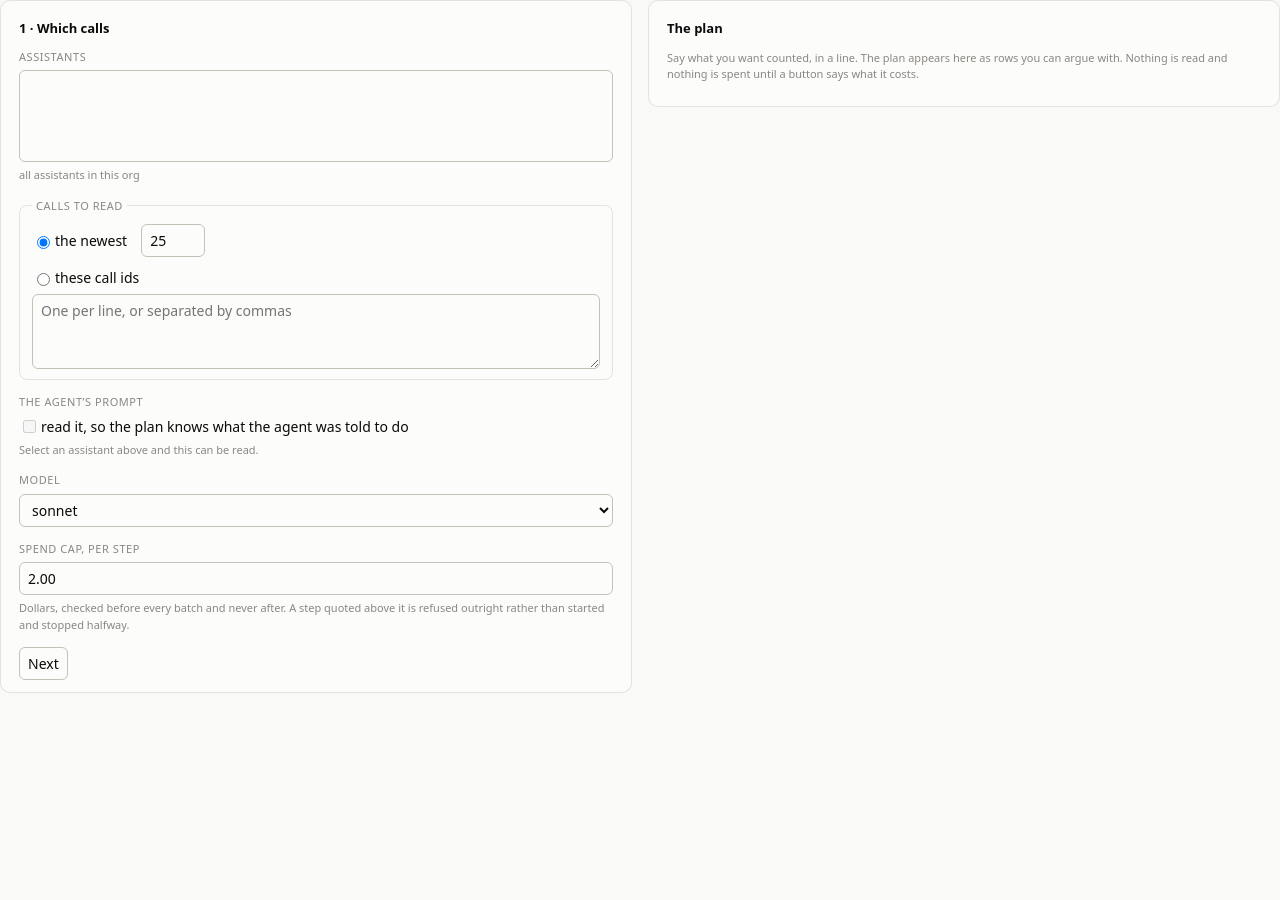
Scenario: the price line › names the model that was picked, before anything has been spent
The width and height of the screenshot is (1280, 900).
Select "opus" in the dropdown labelled "Model". click: (316, 510)
box: [19, 494, 613, 526]
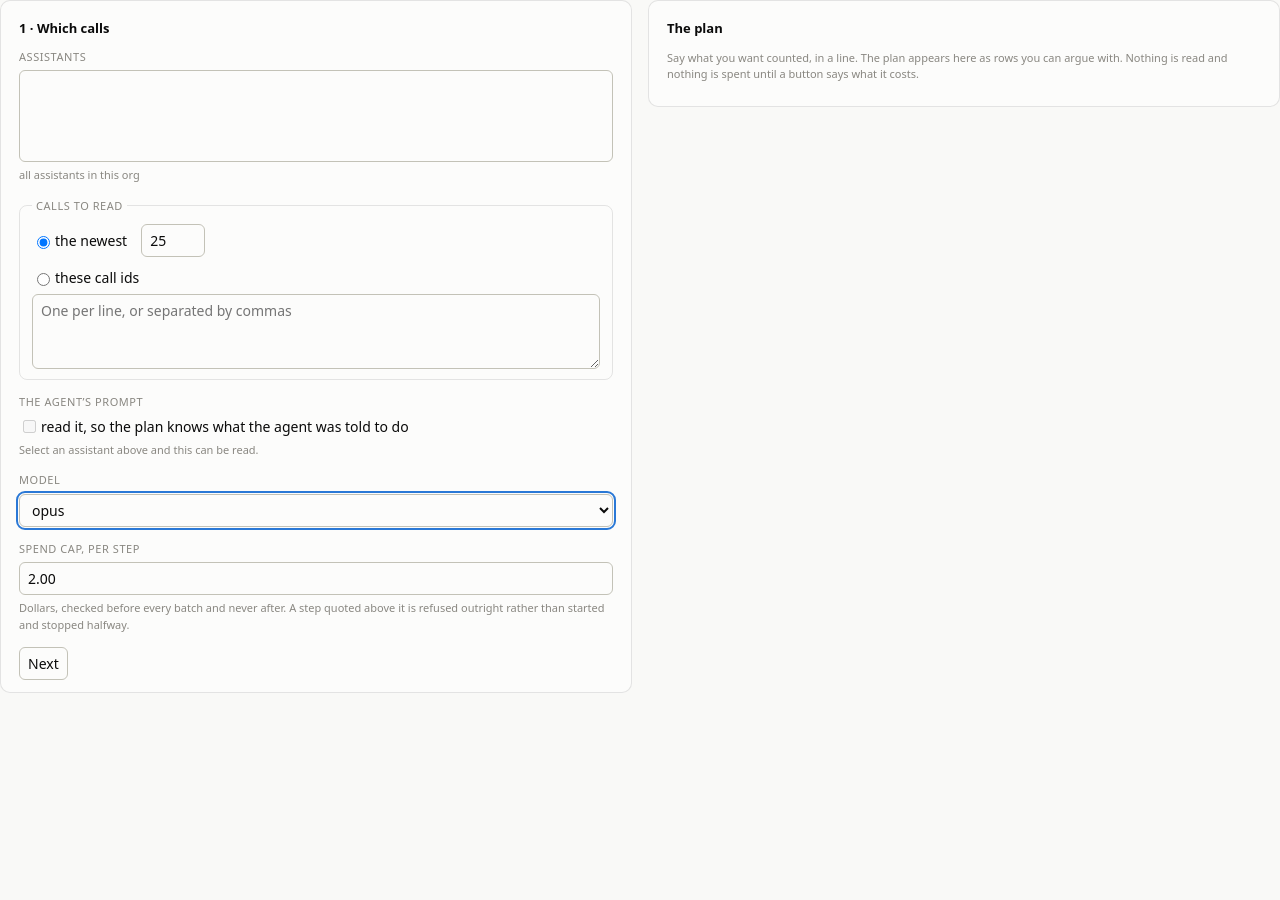
Click the button "Next". click: (43, 664)
box: [19, 647, 68, 680]
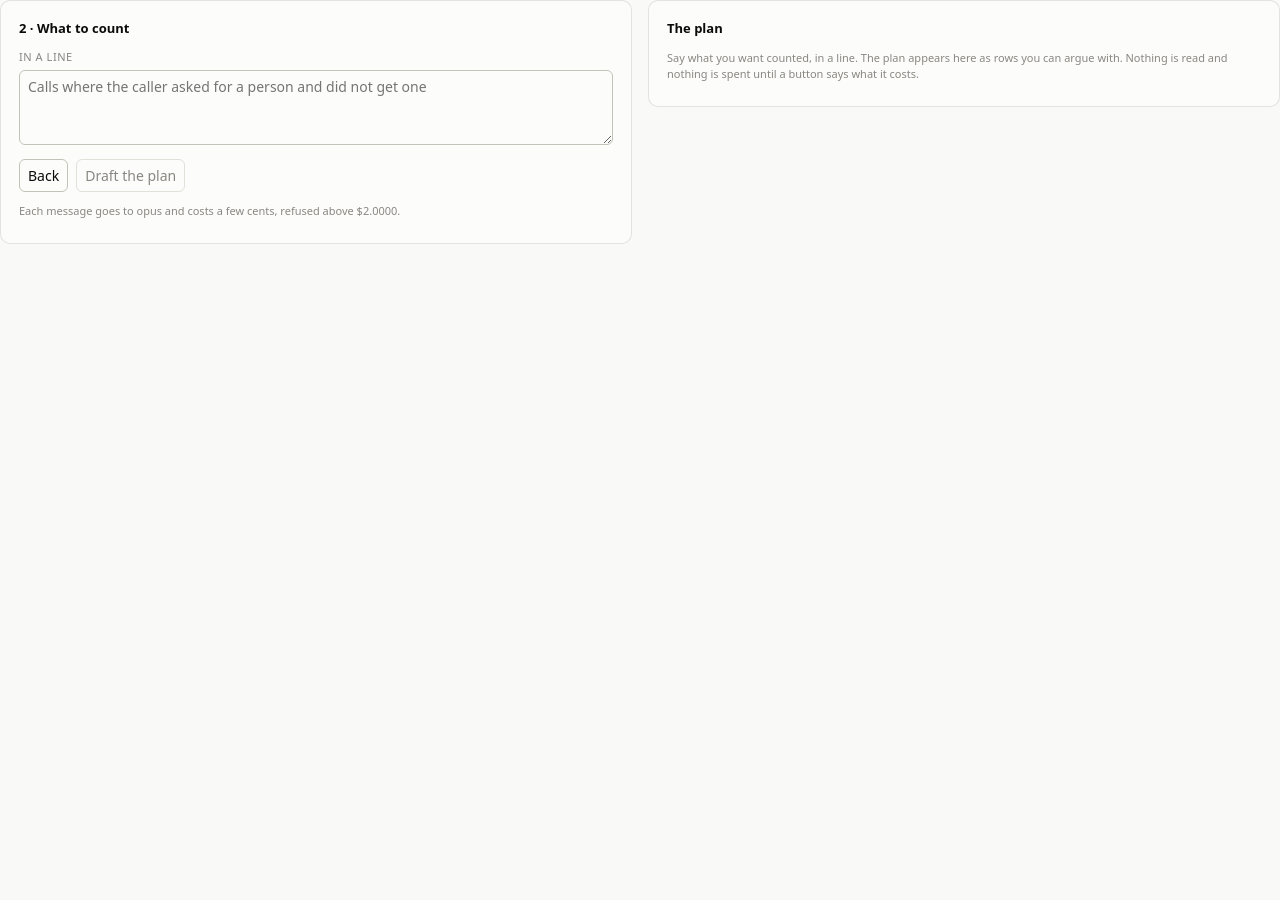
Check: the text "Each message goes to opus" is shown, box [19, 203, 400, 218]
